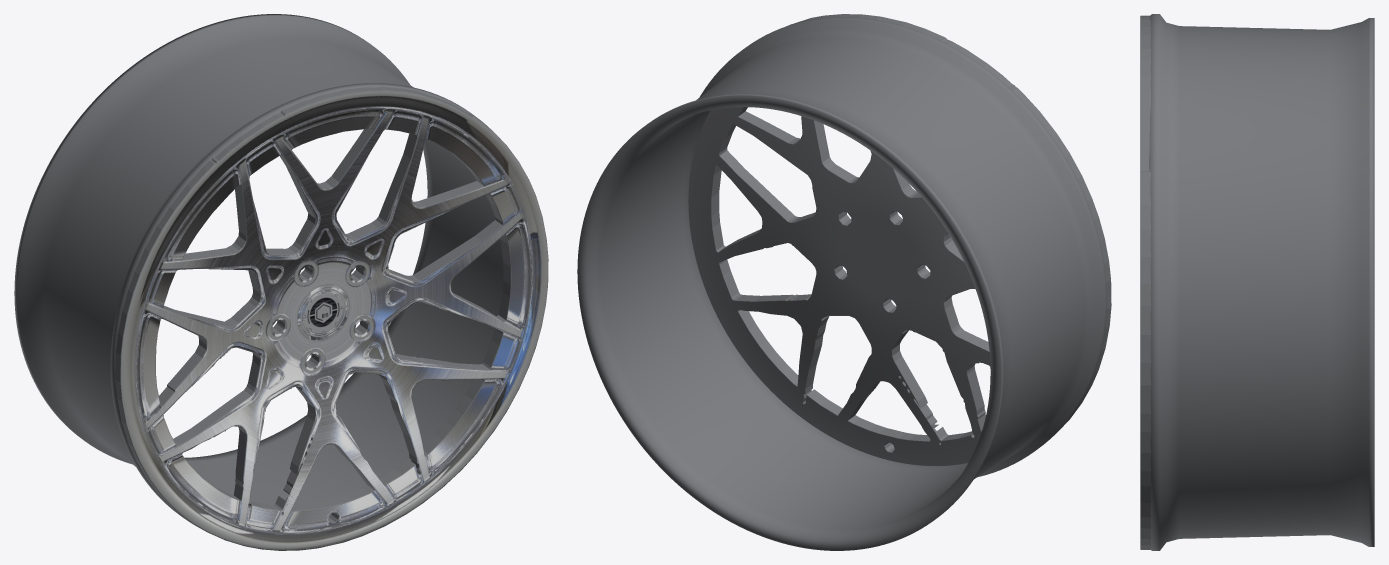
Rendered from e6-monoblock-sr8.glb.
3 renders of one model, left to right at view 1: azimuth 30°, elevation 25°; view 2: azimuth 150°, elevation 25°; view 3: azimuth 270°, elevation 25°, orthographic. The views are drawn at different scales.
Parts seen in each view (by area): view 1: Photo_traced_face_0, Approximate_rear_barrel; view 2: Approximate_rear_barrel, Photo_traced_face_0; view 3: Approximate_rear_barrel, Photo_traced_face_0.
Part boxes in pixels (bbox=[...]): Photo_traced_face_0: bbox=[115, 87, 548, 550]; Approximate_rear_barrel: bbox=[14, 14, 503, 529]; Approximate_rear_barrel: bbox=[577, 17, 1107, 550]; Photo_traced_face_0: bbox=[688, 14, 1111, 465]; Approximate_rear_barrel: bbox=[1149, 14, 1374, 550]; Photo_traced_face_0: bbox=[1140, 15, 1150, 549].
Bounding box in the file's own units: 2.06 × 2.06 × 0.9.
2 materials, 1 textured.
